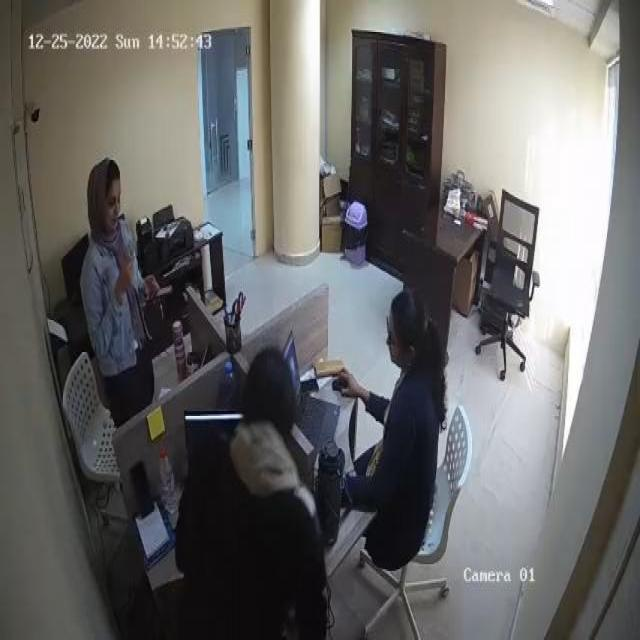bare_hand: (326, 354, 362, 409), (110, 254, 138, 308), (143, 271, 162, 313)
